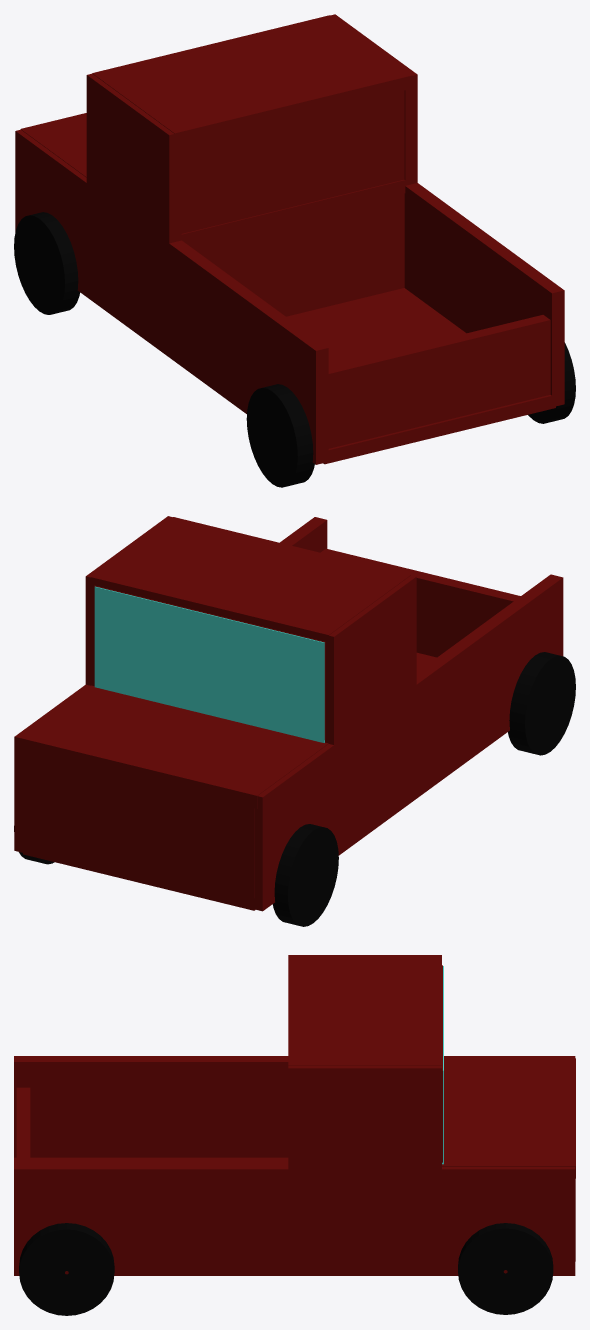
The model's file is cartest.glb.
3 renders of one model, top to bottom at view 1: azimuth 30°, elevation 25°; view 2: azimuth 150°, elevation 25°; view 3: azimuth 270°, elevation 25°, orthographic. The views are drawn at different scales.
Parts seen in each view (by area): view 1: Cube; view 2: Cube; view 3: Cube.
Boxes of the visible parts, x1,y1,x2,y2 form: Cube: (14, 14, 575, 487); Cube: (14, 516, 575, 926); Cube: (14, 955, 575, 1315).
Size of the model in its own units: 2.58 by 2.29 by 4.83.
